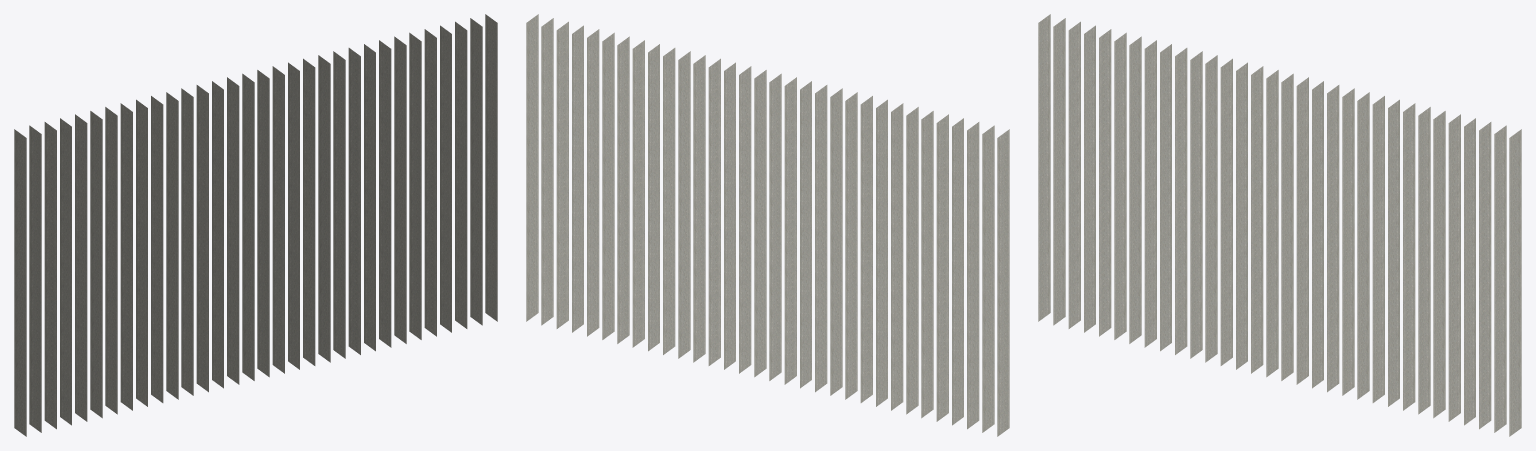
Rendered from Blinds001.glb.
3 renders of one model, left to right at view 1: azimuth 30°, elevation 25°; view 2: azimuth 150°, elevation 25°; view 3: azimuth 330°, elevation 25°, orthographic.
Parts seen in each view (by area): view 1: blinds.001; view 2: blinds.001; view 3: blinds.001.
Part boxes in pixels (x1=…): blinds.001: x1=14, y1=14, x2=497, y2=436; blinds.001: x1=526, y1=14, x2=1009, y2=436; blinds.001: x1=1038, y1=14, x2=1521, y2=436.
Size of the model in its own units: 3.1 by 1.88 by 0.14.
1 material, 1 textured.
